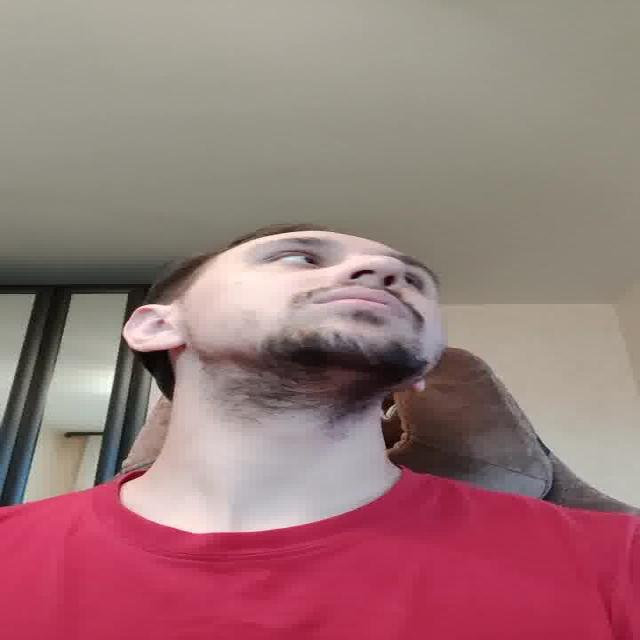earlobe: (124, 306, 187, 352)
